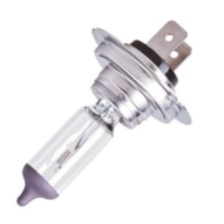light_bulb: (13, 17, 202, 209)
